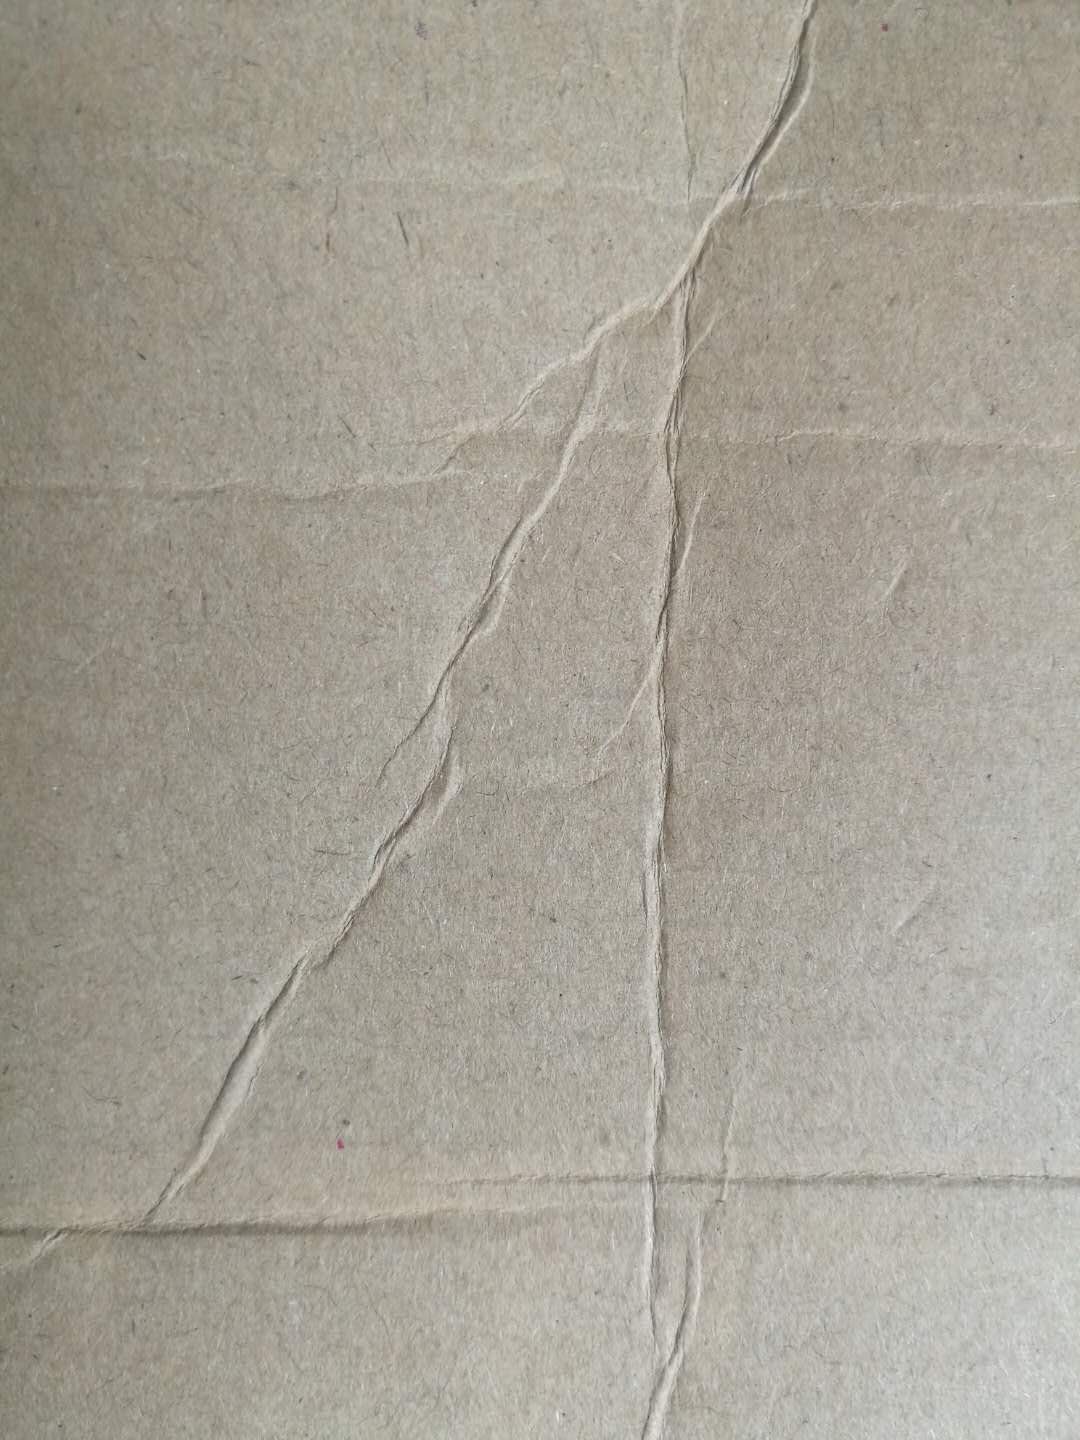defect: (130, 1, 879, 1433), (2, 1115, 1080, 1319), (2, 98, 1080, 293), (3, 355, 1080, 532)
